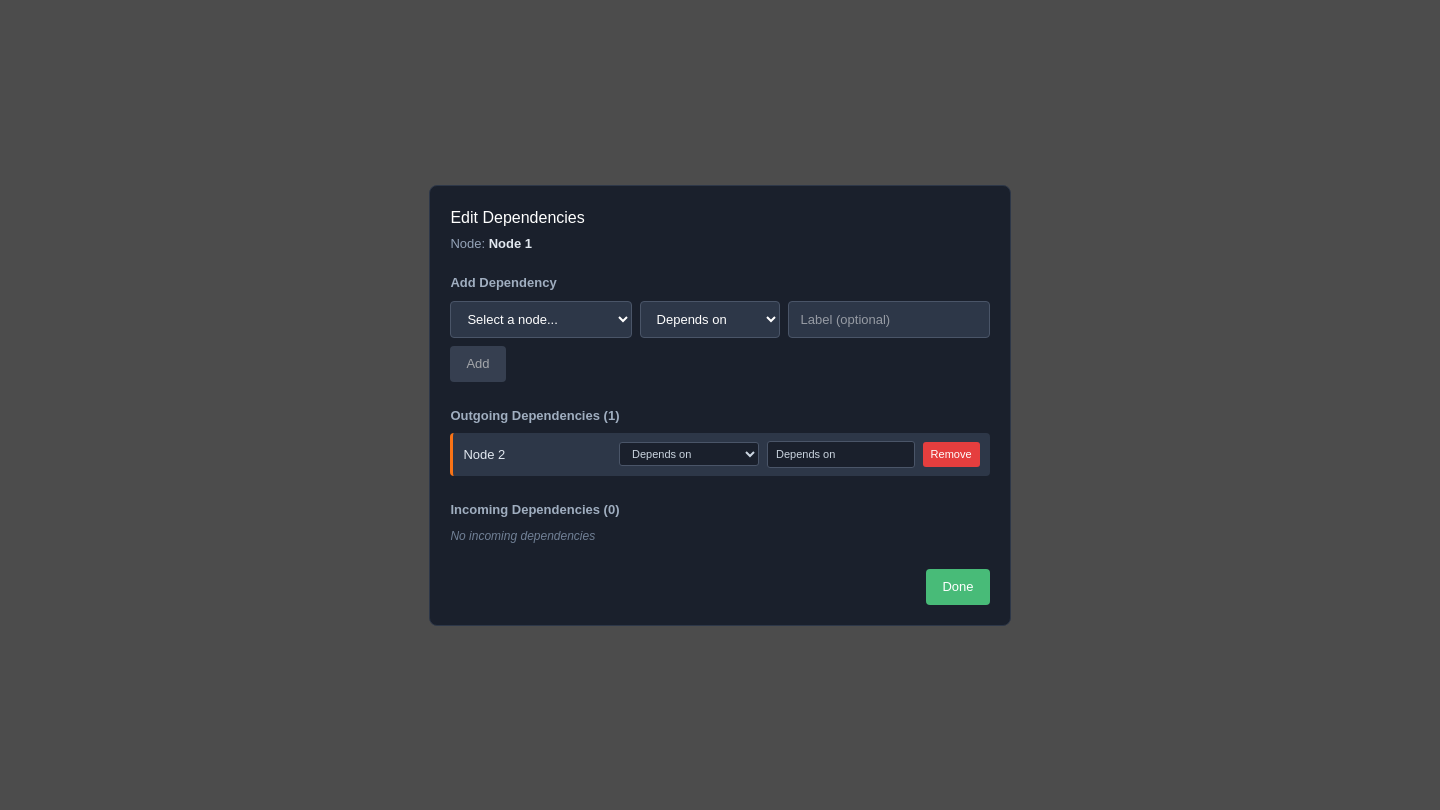
DependencyEditor › prevents adding a duplicate dependency with the same relation and label
The image size is (1440, 810).
Select "Node 2" in the dropdown labelled "Add Dependency" at (541, 319), box [450,300,632,338]
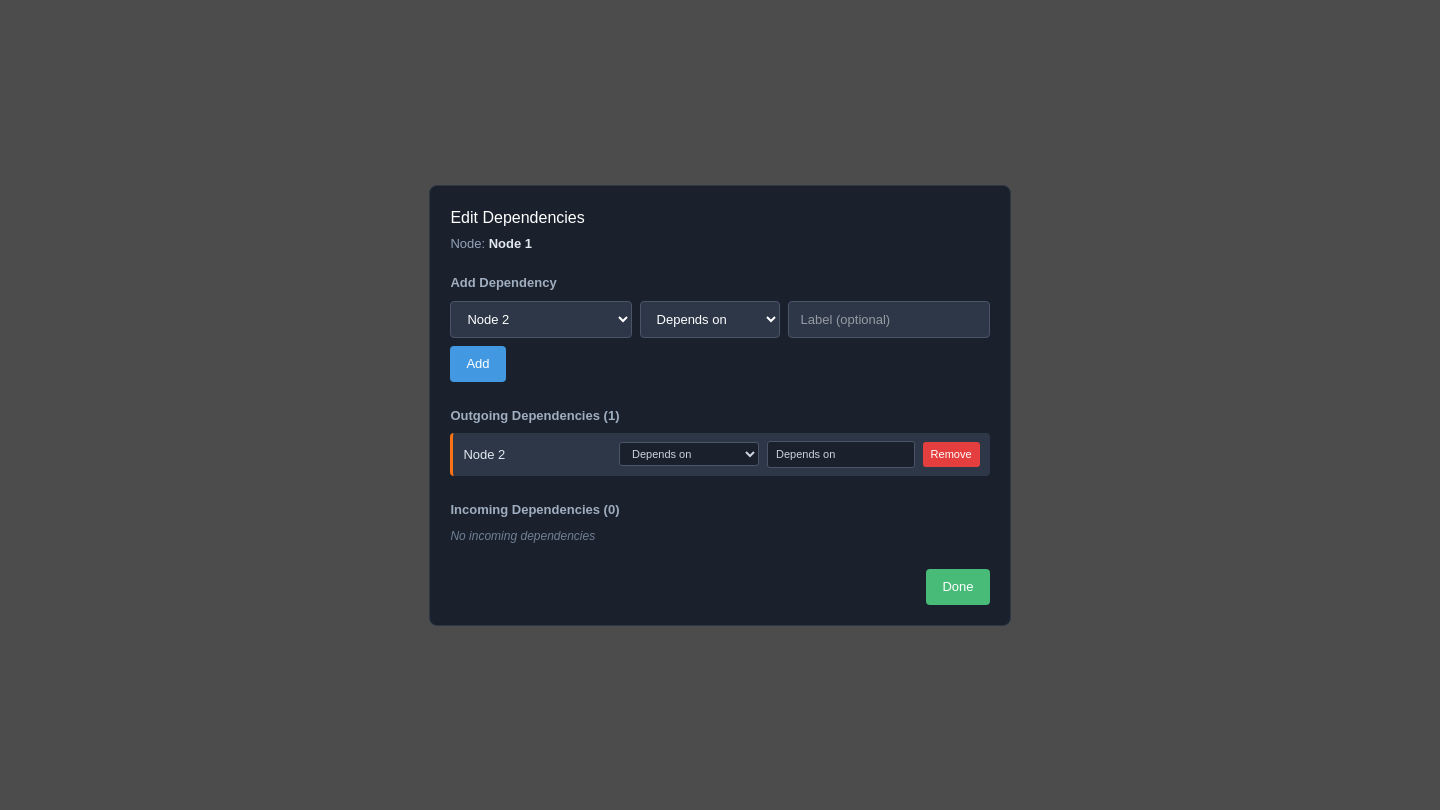
Click the button "Add" at (478, 364), box [450,346,506,382]
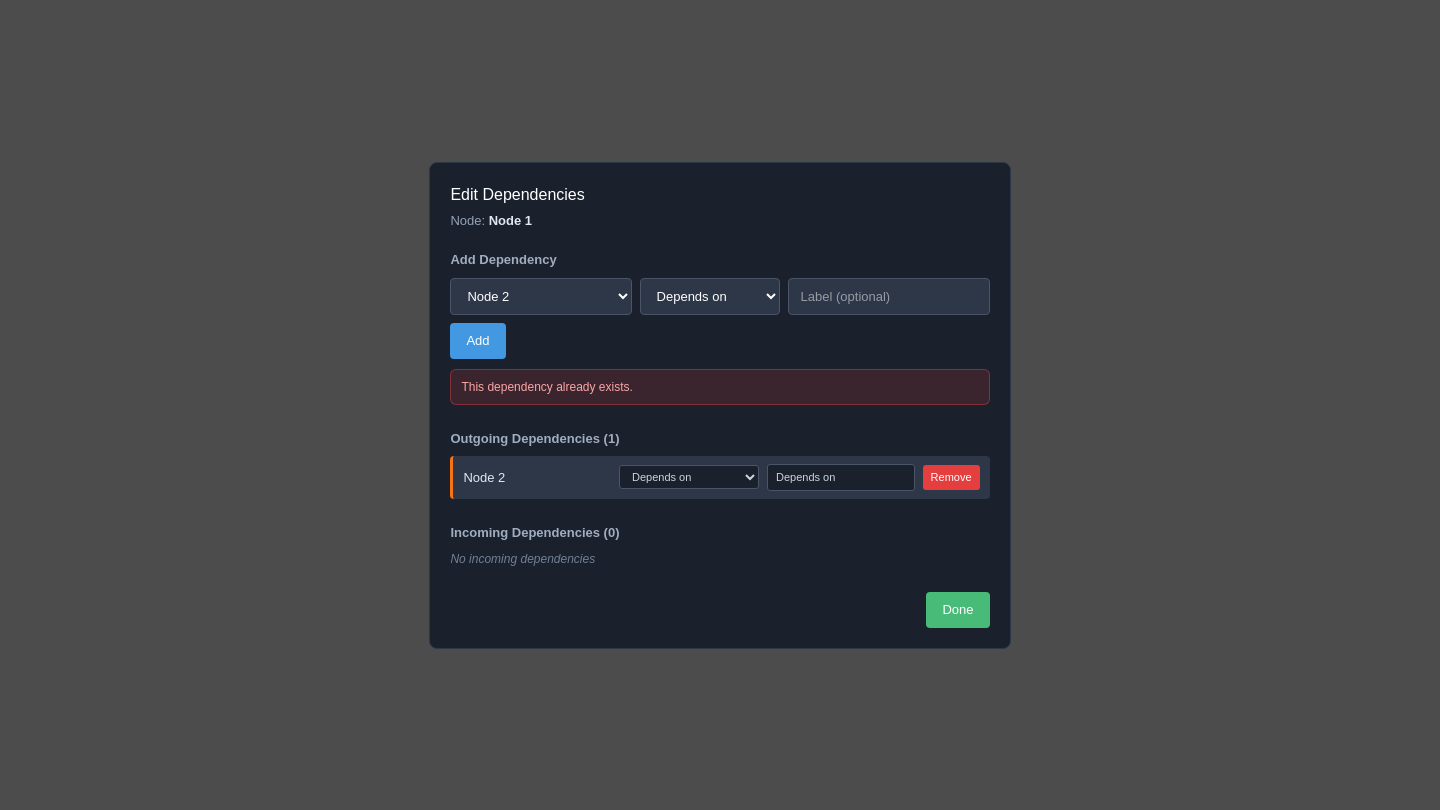
Check: the message shows "already exists", box [461,380,633,394]
